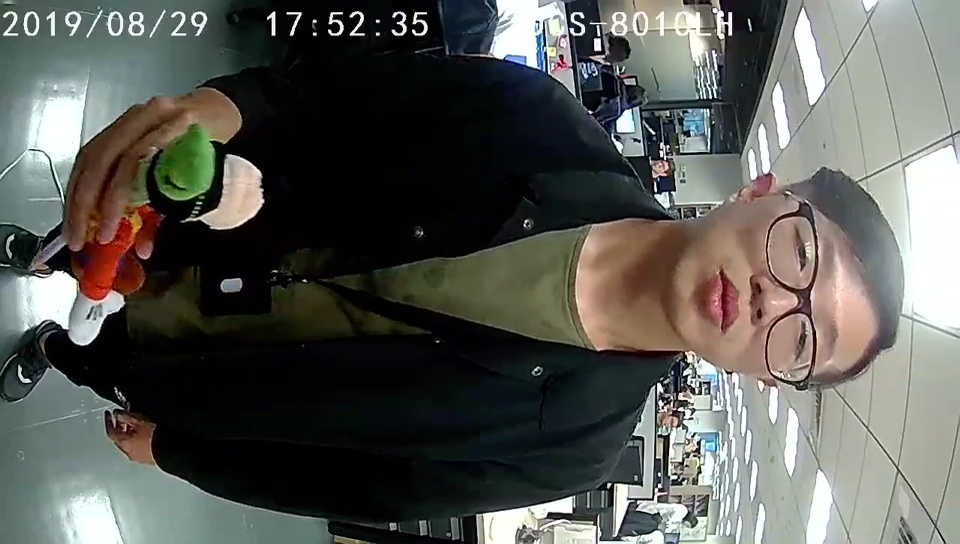goofy: (65, 123, 267, 347)
